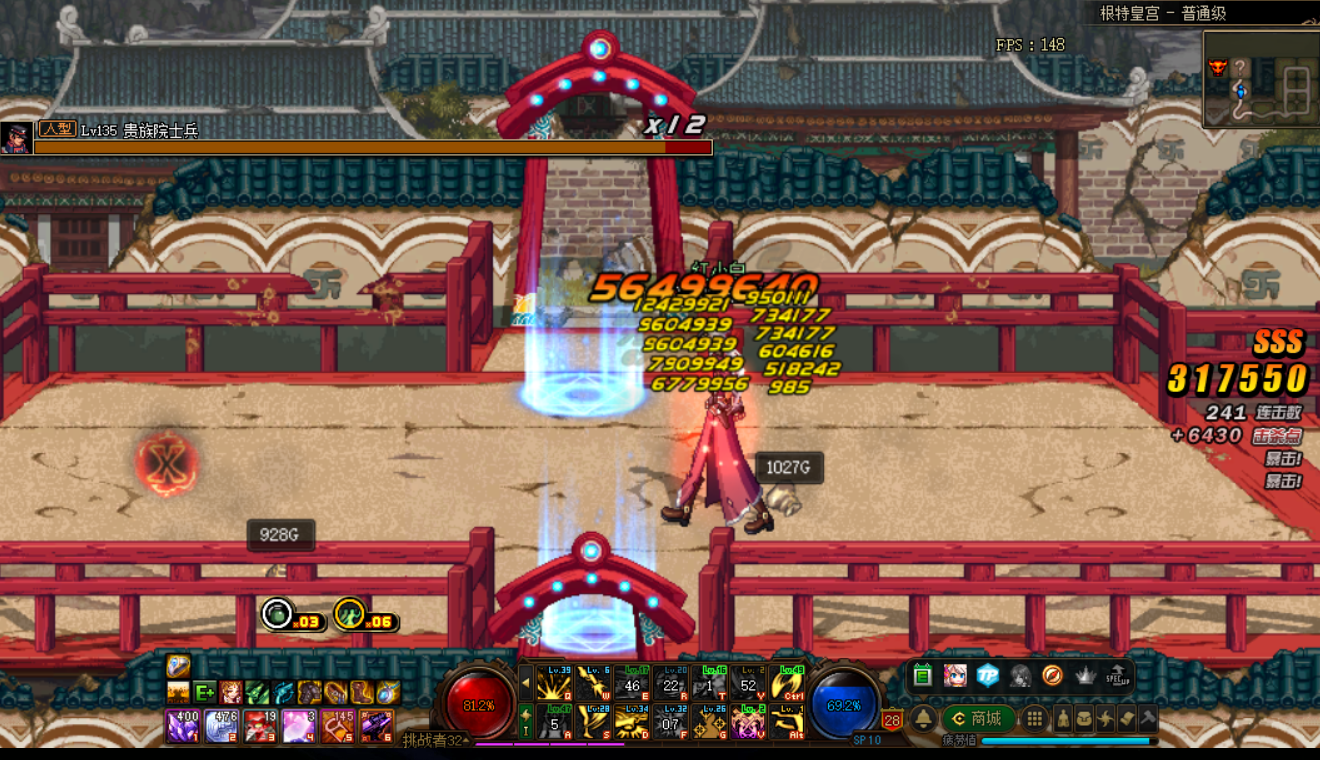warrior: (625, 313, 802, 538)
